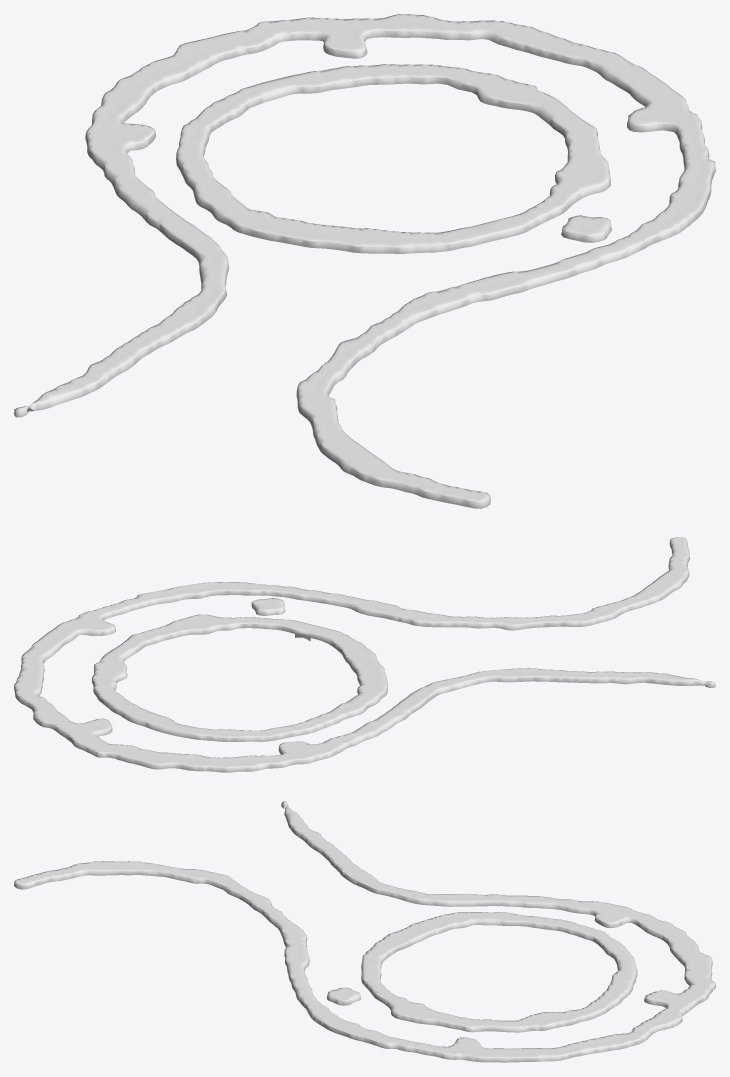
The model's file is IslandFoam_02.fbx.
The picture shows the model from 3 angles, top to bottom: view 1: azimuth 30°, elevation 25°; view 2: azimuth 150°, elevation 25°; view 3: azimuth 270°, elevation 25°; orthographic projection. The views are drawn at different scales.
Visible parts, largest first — view 1: Extract2; view 2: Extract2; view 3: Extract2.
Part boxes in pixels (<box>): Extract2: <box>14,14,715,508</box>; Extract2: <box>14,537,715,772</box>; Extract2: <box>14,801,715,1062</box>.
Size of the model in its own units: 119083 by 1808 by 137137.
